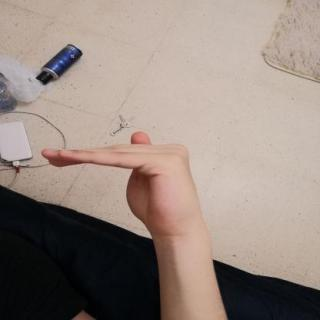KHAA: (27, 123, 221, 240)
